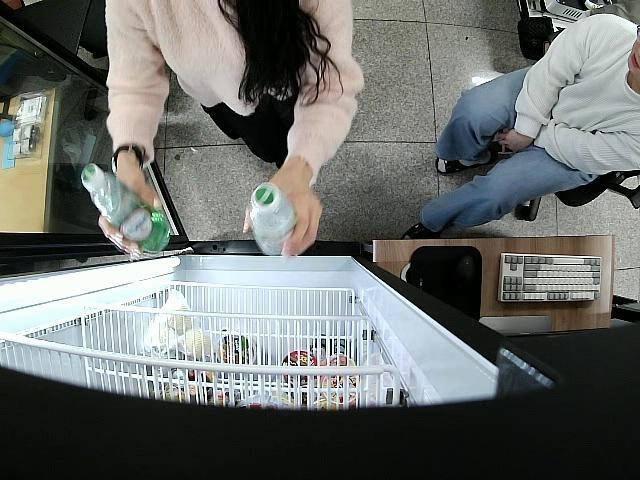18_trevi: (80, 164, 172, 253), (250, 182, 298, 255)
